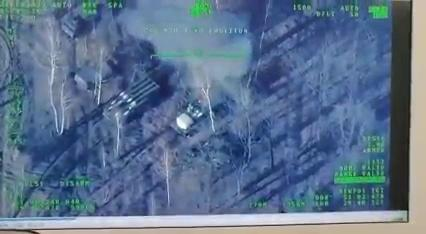rszo: (172, 83, 226, 138), (102, 75, 159, 125)
